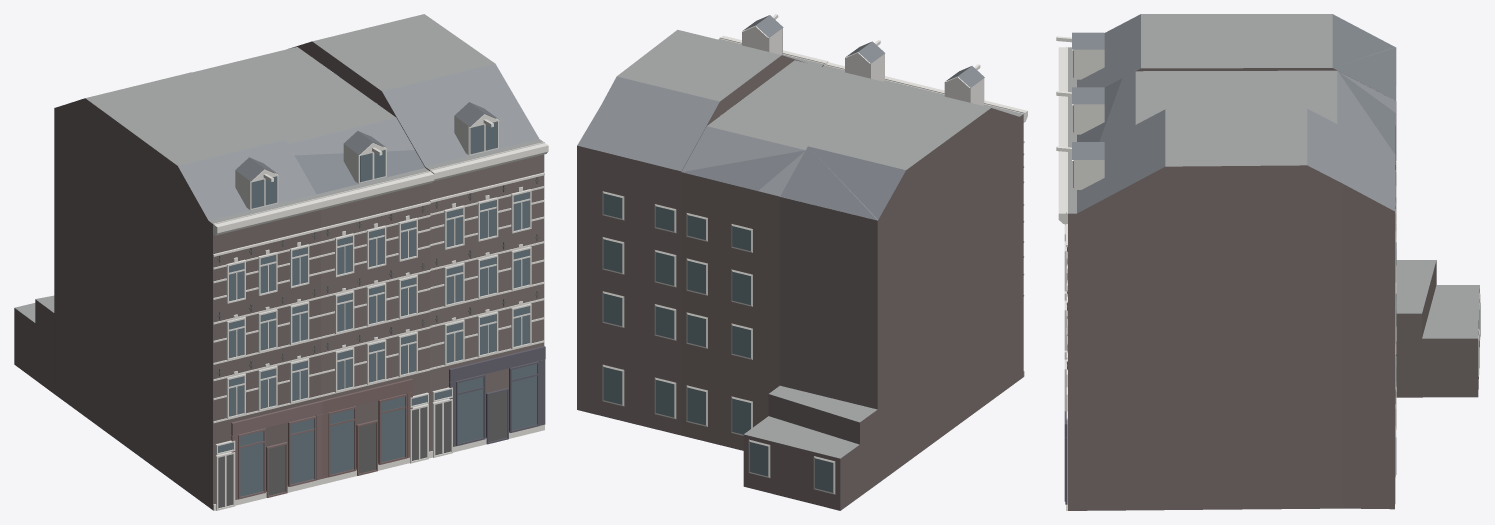
Rendered from chunk-face-cuyp-102-130-r1.glb.
The picture shows the model from 3 angles, left to right: view 1: azimuth 30°, elevation 25°; view 2: azimuth 150°, elevation 25°; view 3: azimuth 270°, elevation 25°; orthographic projection. The views are drawn at different scales.
Parts seen in each view (by area): view 1: face-cuyp-102-130-r1; view 2: face-cuyp-102-130-r1; view 3: face-cuyp-102-130-r1.
Part boxes in pixels (x1,y1,x2,y2): face-cuyp-102-130-r1: [14, 14, 548, 510]; face-cuyp-102-130-r1: [577, 14, 1027, 510]; face-cuyp-102-130-r1: [1056, 14, 1480, 510].
Size of the model in its own units: 17.21 by 16.48 by 18.46.
